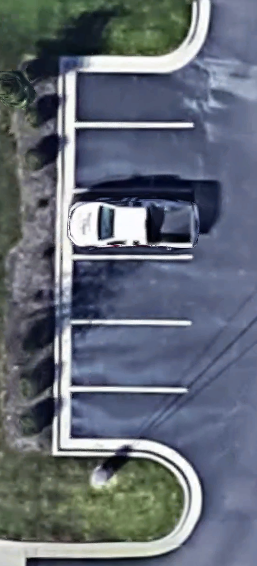Occupied: (67, 191, 192, 258)
Vacant: (65, 322, 188, 391), (66, 257, 191, 322), (70, 125, 193, 191), (70, 68, 194, 126), (64, 389, 185, 448)
